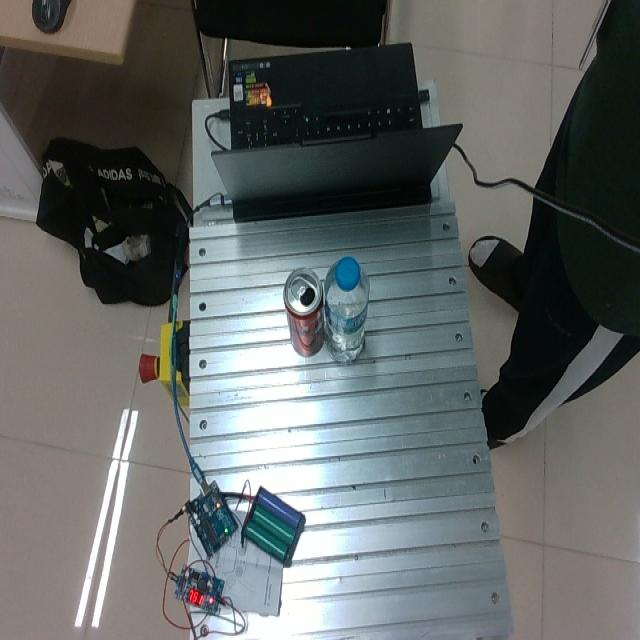coca: (282, 266, 326, 358)
lavie: (322, 256, 370, 363)
